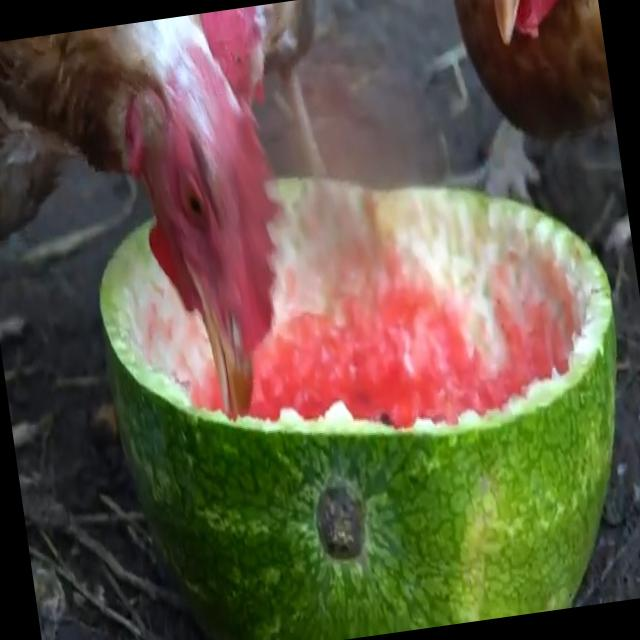feeding: (0, 0, 357, 452)
